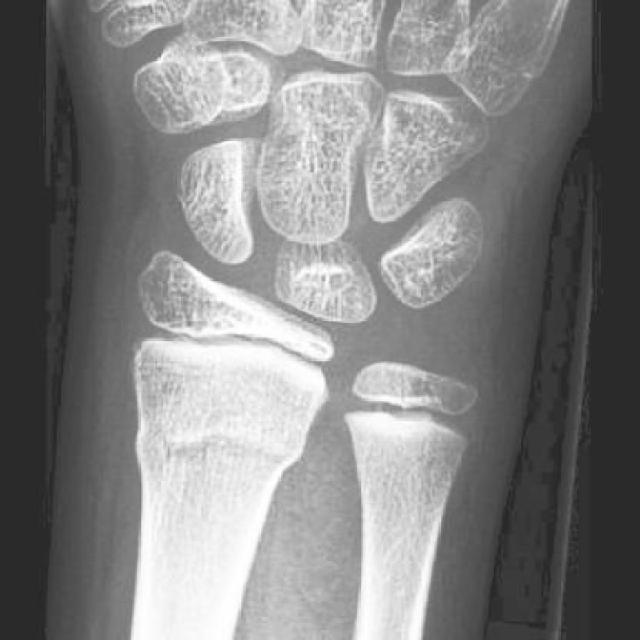Fracture: (128, 408, 311, 482)
